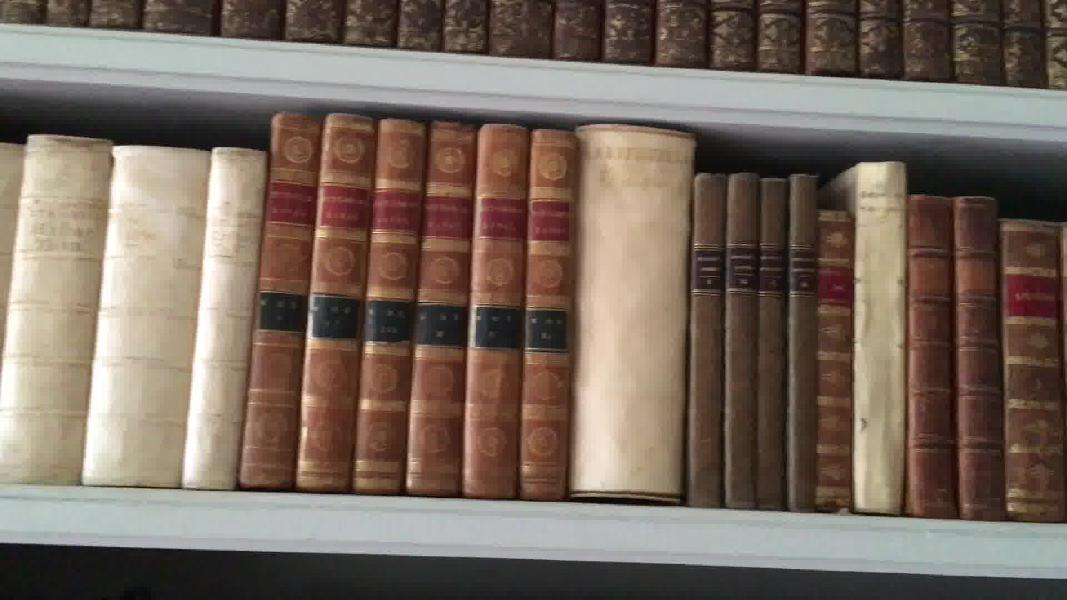Kk4-14: (579, 109, 691, 506)
Kk4-15_16: (698, 159, 760, 519)
Kk4-17_18: (763, 172, 813, 519)
Kk4-19: (813, 200, 854, 513)
Kk4-20: (848, 156, 923, 531)
Kk4-21_22: (916, 188, 1001, 528)
Kk4-8_13: (254, 94, 582, 506)
